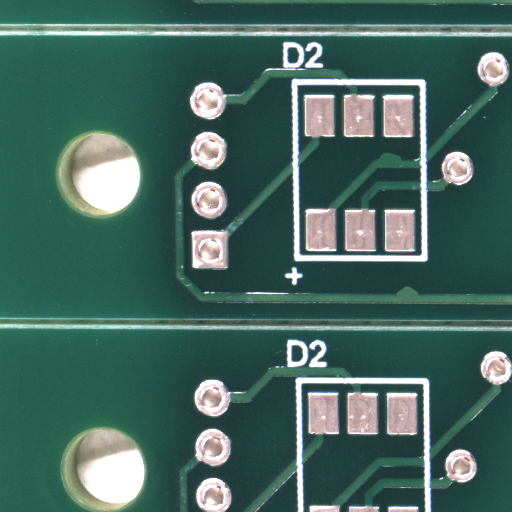Spur: (391, 156, 420, 169), (404, 290, 431, 301)
